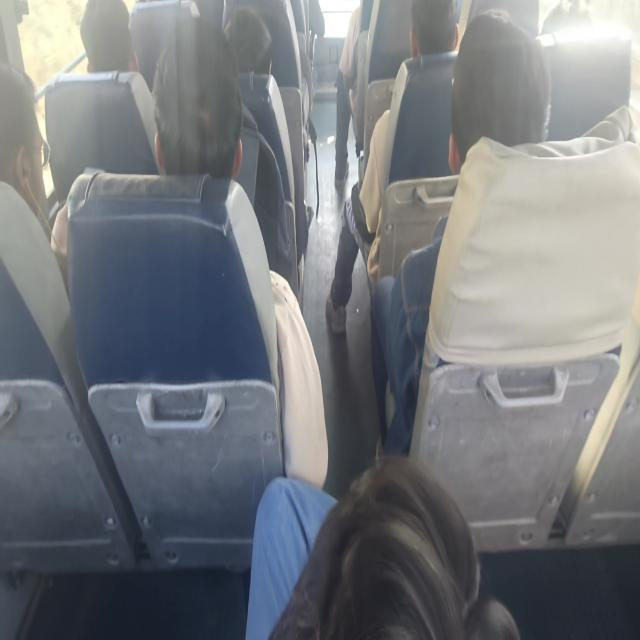person: (309, 488, 495, 640), (454, 17, 558, 178), (150, 23, 250, 184), (0, 79, 59, 206), (73, 0, 135, 66), (225, 1, 279, 76), (414, 0, 462, 66), (540, 0, 604, 44)
